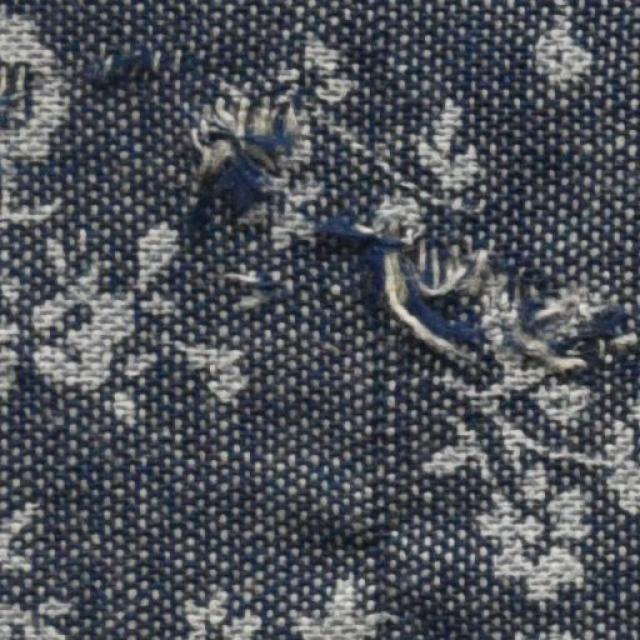Snag: (314, 193, 639, 398), (168, 95, 300, 245), (87, 36, 188, 106)
